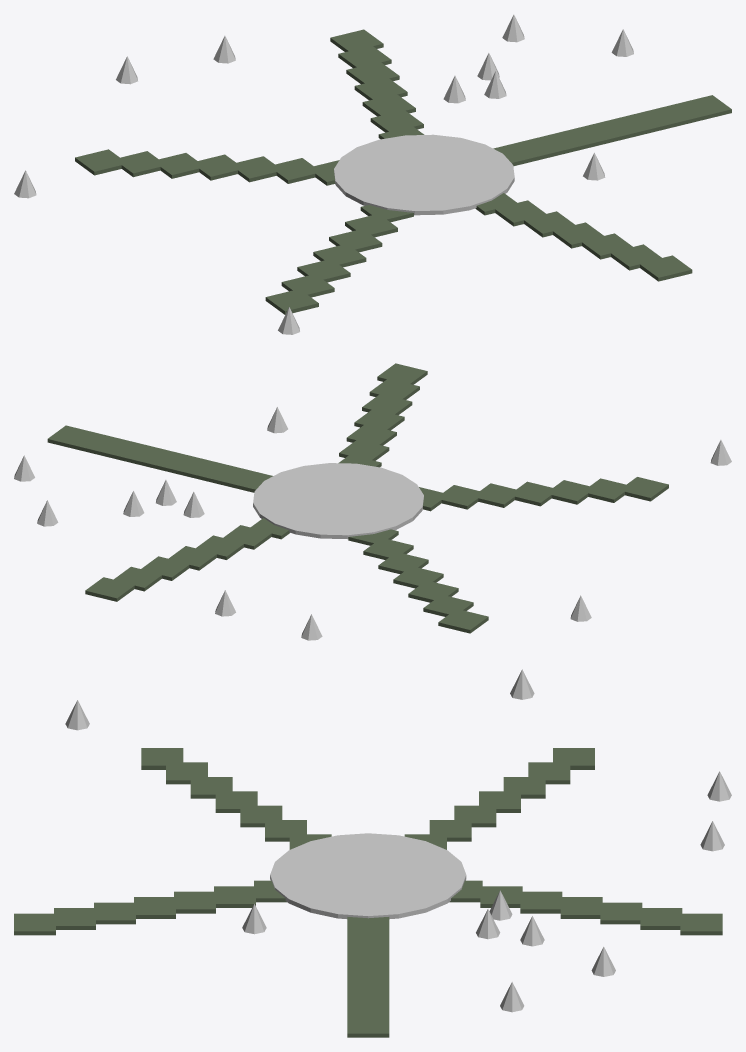
The model's file is layout_main.obj.
3 views of the same model, one above another, from view 1: azimuth 30°, elevation 25°; view 2: azimuth 150°, elevation 25°; view 3: azimuth 270°, elevation 25° (orthographic). The views are drawn at different scales.
Visible parts, largest first — view 1: paths, plaza, scatter; view 2: paths, plaza, scatter; view 3: paths, plaza, scatter.
Boxes of the visible parts, box(x1,y1,x2,y2) form: paths: box(75, 29, 731, 314); plaza: box(334, 134, 514, 215); scatter: box(14, 14, 633, 334); paths: box(47, 363, 668, 633); plaza: box(253, 463, 423, 539); scatter: box(14, 407, 731, 640); paths: box(14, 748, 722, 1037); plaza: box(270, 833, 466, 919); scatter: box(65, 669, 731, 1012).
Size of the model in its own units: 56.43 by 3.08 by 51.24.
